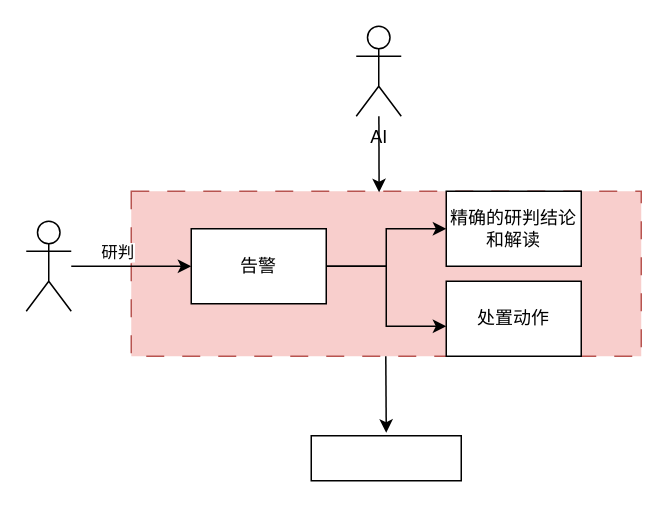
The diagram is 668 pixels wide and 507 high, and some of its shapes have lost their labels. The centre of each missing label's shape, as x and y in pixels:
自动处置规则: point 385,457
运营: point 48,265
